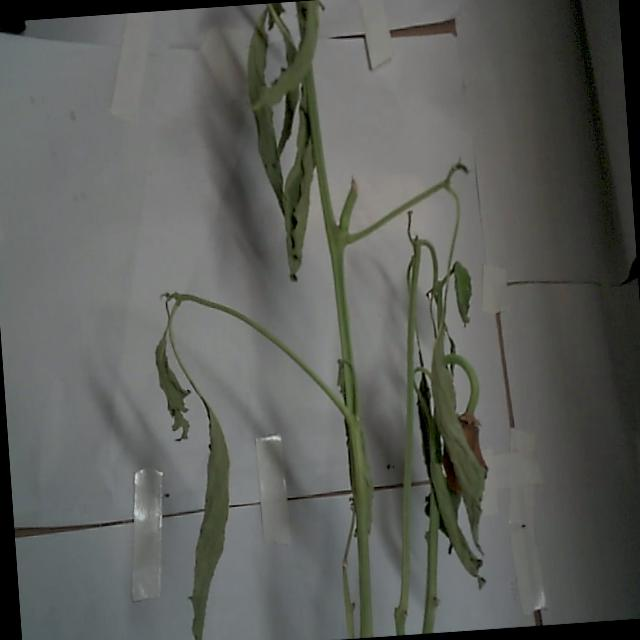Leaf: (169, 373, 240, 640), (426, 331, 488, 562), (242, 3, 299, 250), (149, 302, 193, 439)
